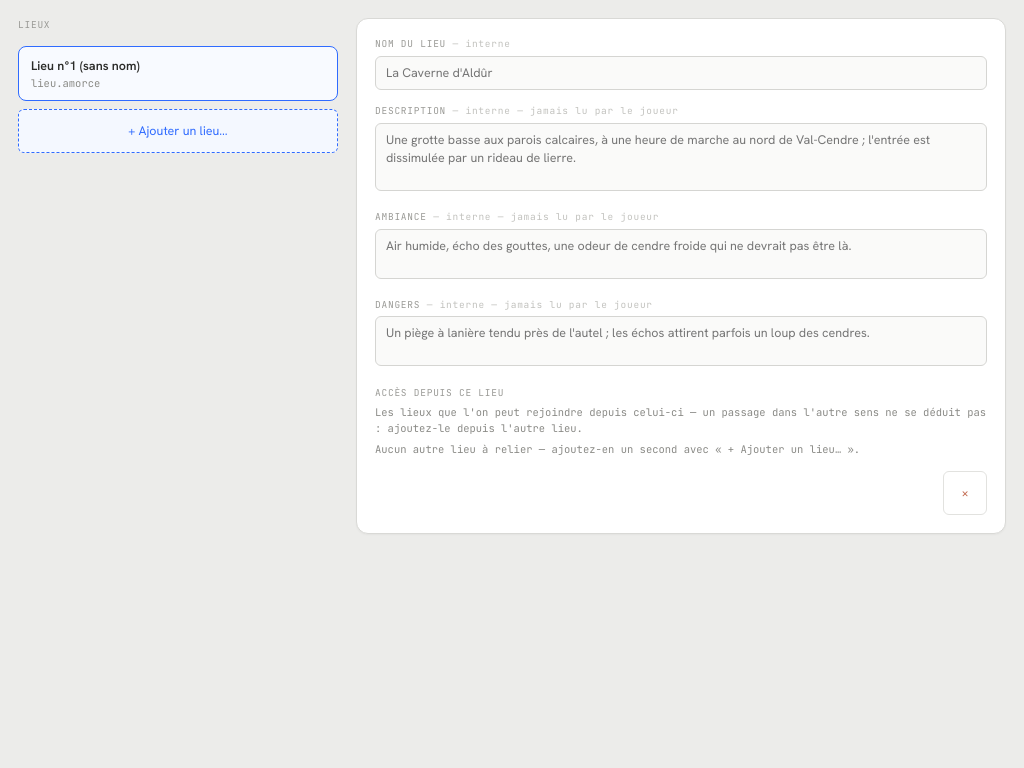
PanneauLieux › dossier supprime pendant l edition: bandeau, jamais efface silencieusement par la branche succes
In the field labelled "NOM DU LIEU — interne": (681, 73) [375, 56, 987, 90], type "Un nom quelconque"
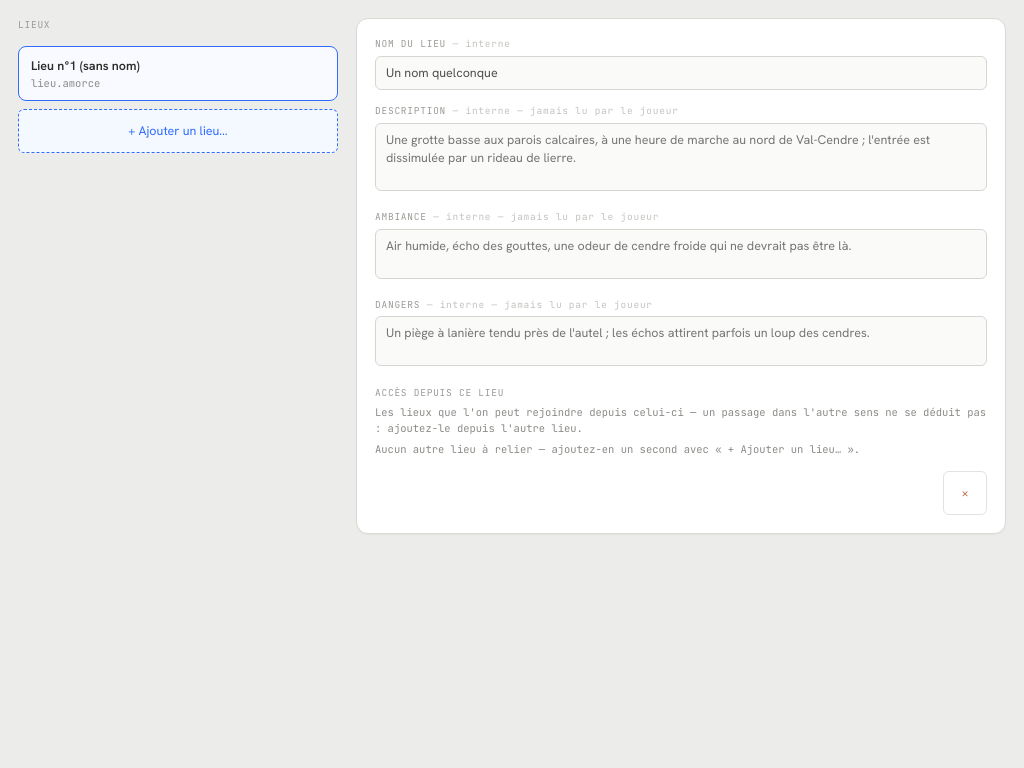
Leave the field labelled "NOM DU LIEU — interne", box [375, 56, 987, 90]
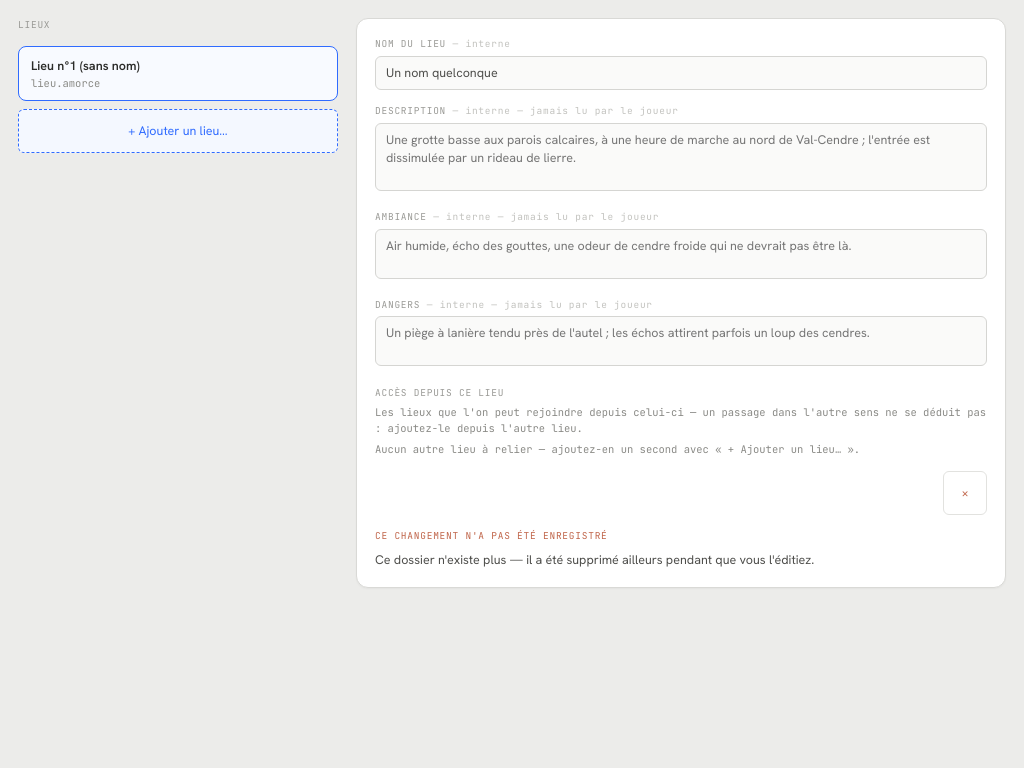
Expected: the message shows "CE CHANGEMENT N'A PAS ÉTÉ ENREGISTRÉ", [375, 529, 608, 542]
Expected: the message shows "Ce dossier n'existe plus", [375, 551, 814, 568]
